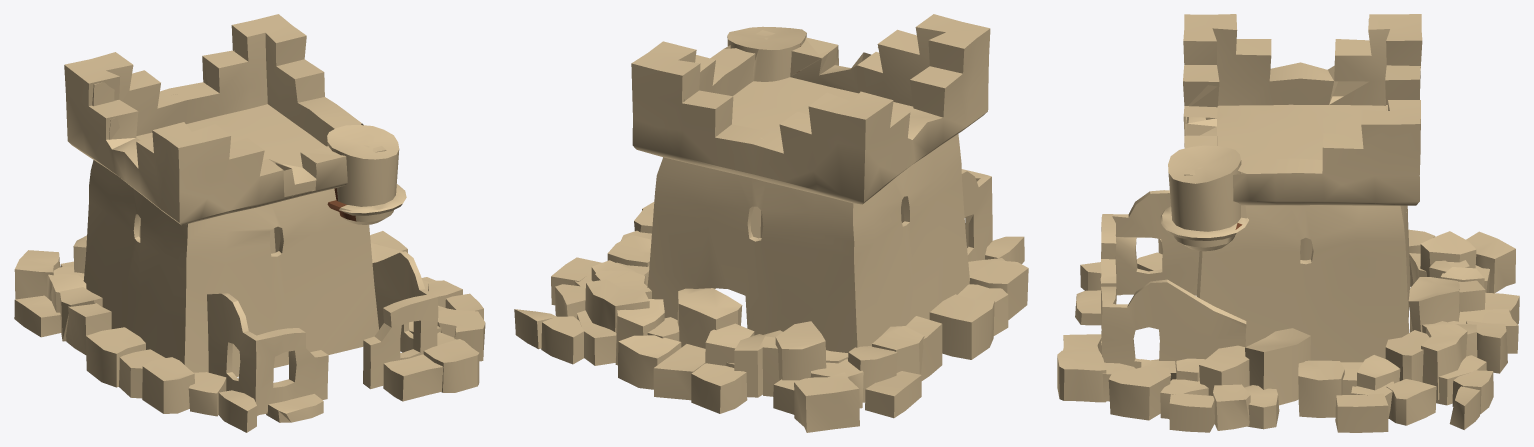
The model's file is castle_d3.3.glb.
3 views of the same model, side by side, from view 1: azimuth 30°, elevation 25°; view 2: azimuth 150°, elevation 25°; view 3: azimuth 270°, elevation 25° (orthographic). The views are drawn at different scales.
Visible parts, largest first — view 1: castle; view 2: castle; view 3: castle.
Part boxes in pixels (x1=…): castle: x1=14, y1=14, x2=485, y2=432; castle: x1=514, y1=14, x2=1028, y2=432; castle: x1=1057, y1=14, x2=1519, y2=432.
Bounding box in the file's own units: 2.59 × 1.84 × 2.9.
